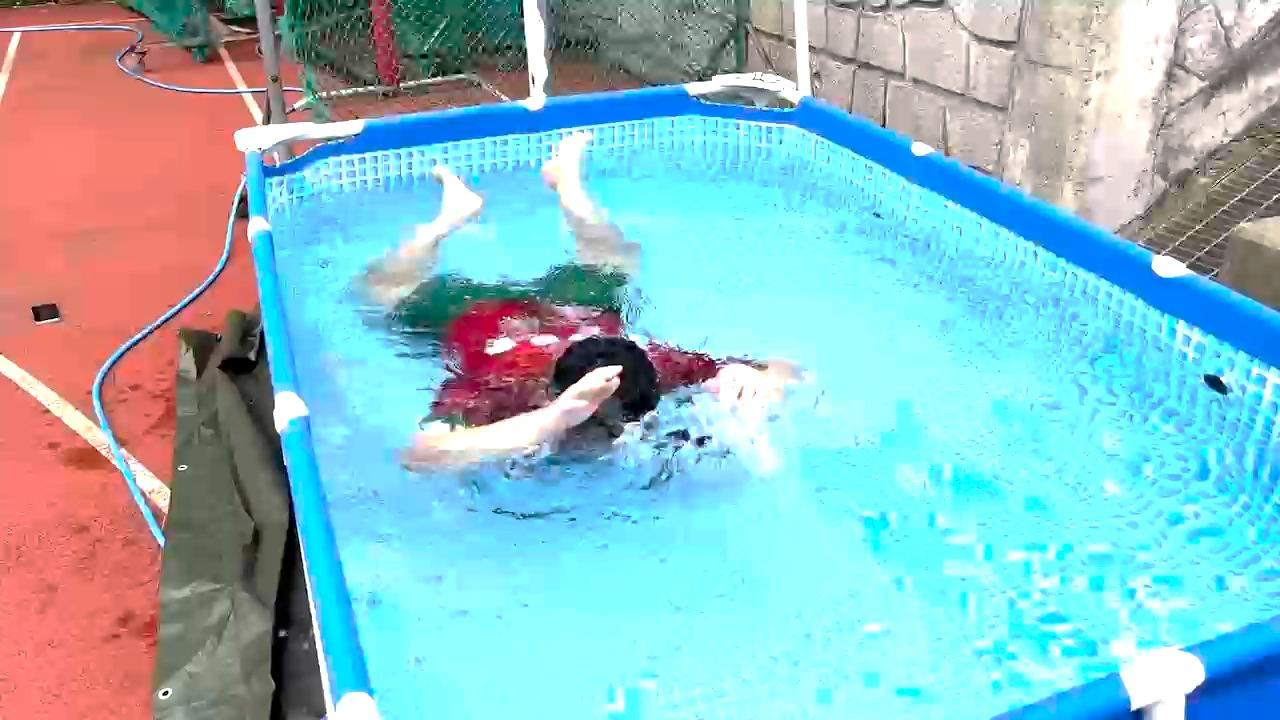Drowning: (305, 125, 794, 539)
